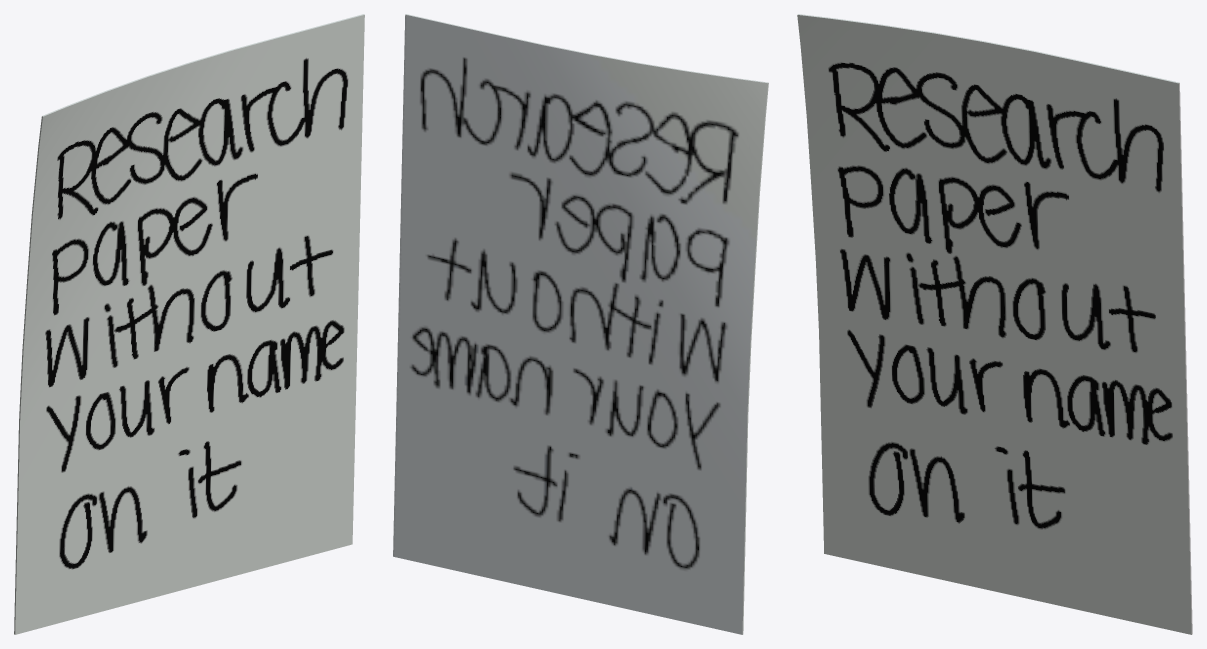
The model's file is paper.fbx.
The picture shows the model from 3 angles, left to right: view 1: azimuth 30°, elevation 25°; view 2: azimuth 150°, elevation 25°; view 3: azimuth 330°, elevation 25°; orthographic projection. The views are drawn at different scales.
Visible parts, largest first — view 1: root; view 2: root; view 3: root.
Boxes of the visible parts, x1,y1,x2,y2 form: root: [14, 14, 364, 634]; root: [393, 14, 768, 634]; root: [797, 14, 1192, 634].
Bounding box in the file's own units: 0.3432 × 0.5122 × 0.0613.
1 material, 1 textured.
